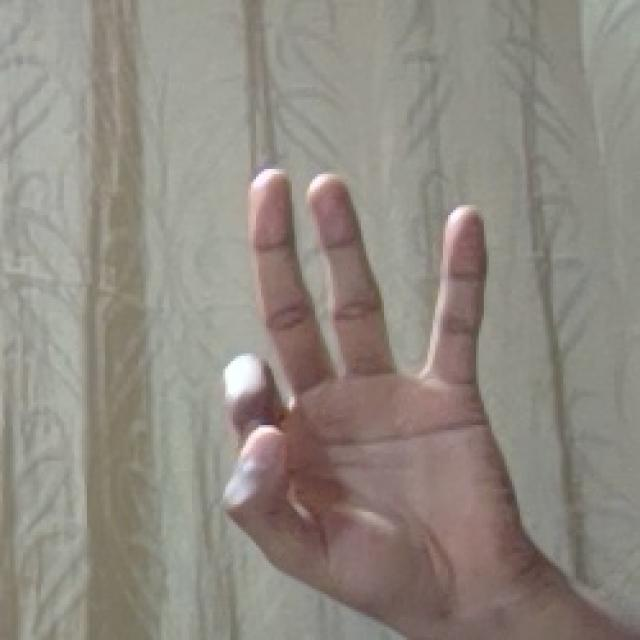Numeric-9: (218, 167, 512, 592)
